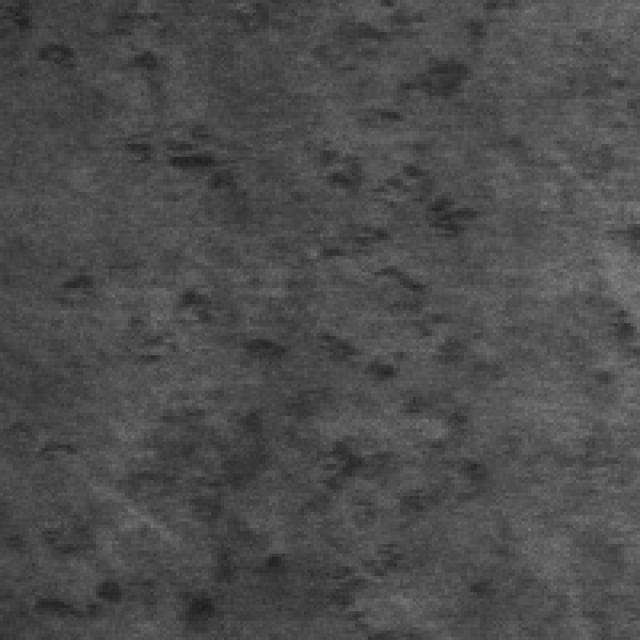rolled-in_scale: (16, 252, 438, 634), (99, 96, 483, 336)
